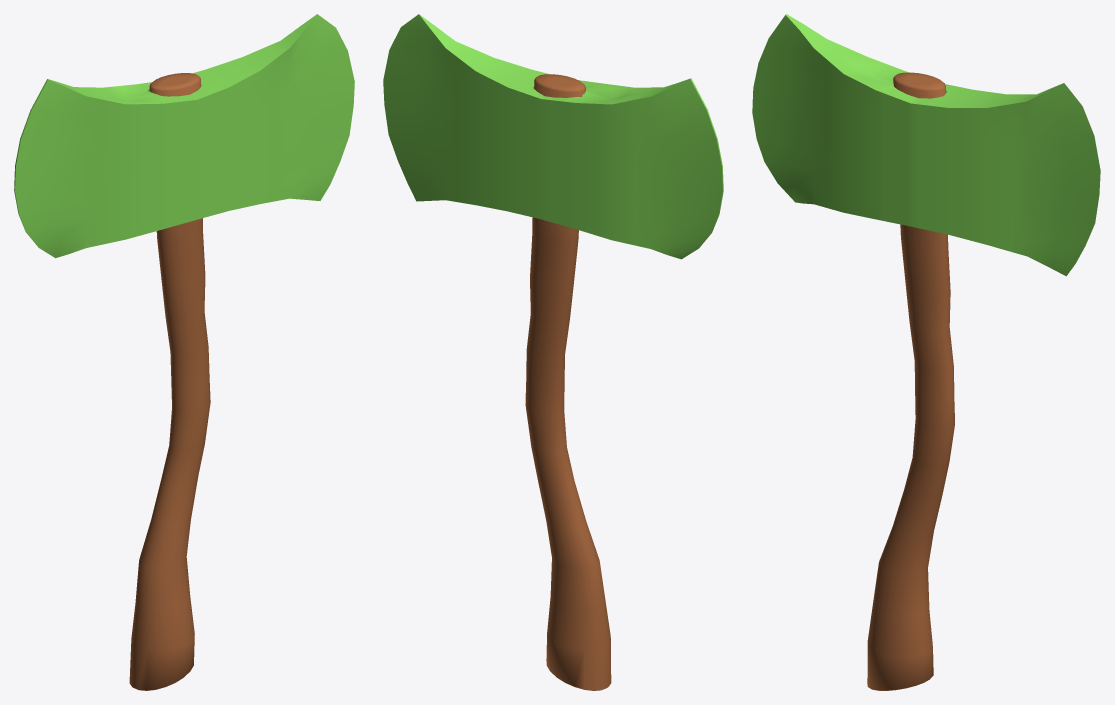
The picture shows the model from 3 angles, left to right: view 1: azimuth 30°, elevation 25°; view 2: azimuth 150°, elevation 25°; view 3: azimuth 330°, elevation 25°; orthographic projection. The views are drawn at different scales.
Visible parts, largest first — view 1: split_parent_0, pCylinder1_lambert1_0; view 2: split_parent_0, pCylinder1_lambert1_0; view 3: split_parent_0, pCylinder1_lambert1_0.
Boxes of the visible parts, x1,y1,x2,y2 form: split_parent_0: (14, 14, 354, 258); pCylinder1_lambert1_0: (129, 73, 210, 690); split_parent_0: (383, 14, 723, 259); pCylinder1_lambert1_0: (525, 74, 611, 690); split_parent_0: (752, 14, 1100, 276); pCylinder1_lambert1_0: (867, 72, 954, 690).
Size of the model in its own units: 0.5653 by 1 by 0.0848.
